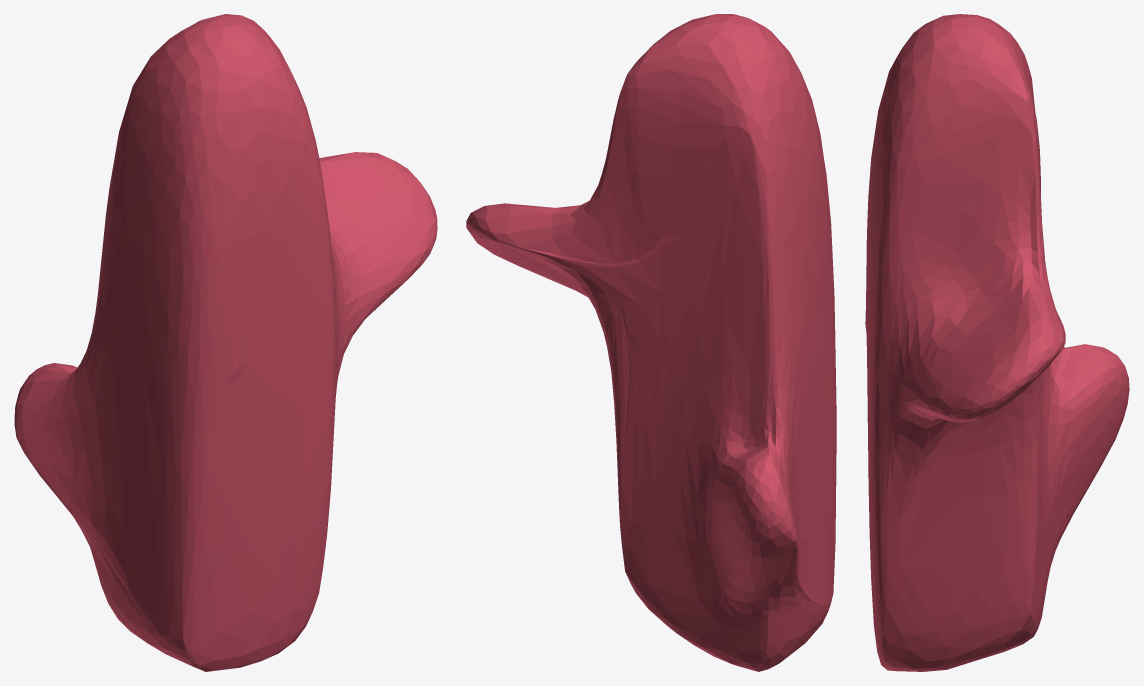
3 renders of one model, left to right at view 1: azimuth 30°, elevation 25°; view 2: azimuth 150°, elevation 25°; view 3: azimuth 270°, elevation 25°, orthographic. The views are drawn at different scales.
Visible parts, largest first — view 1: 771_Cube.3105; view 2: 771_Cube.3105; view 3: 771_Cube.3105.
Part boxes in pixels (x1,y1,x2,y2): 771_Cube.3105: [14, 14, 437, 671]; 771_Cube.3105: [466, 14, 836, 671]; 771_Cube.3105: [865, 14, 1129, 671].
Bounding box in the file's own units: 7.34 × 11.79 × 4.38.
